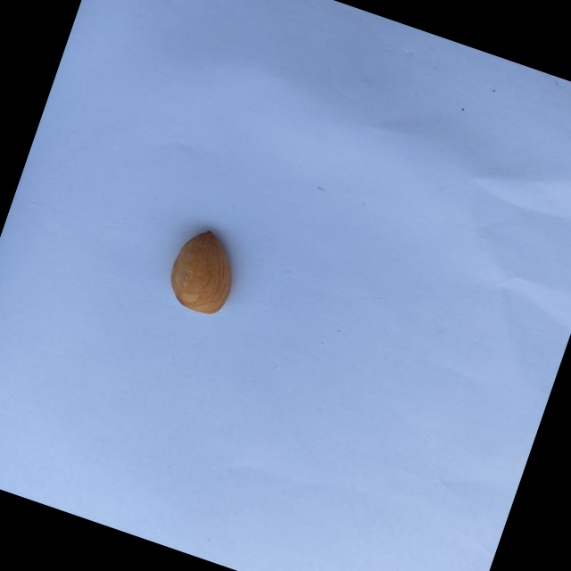grade2: (158, 220, 253, 324)
